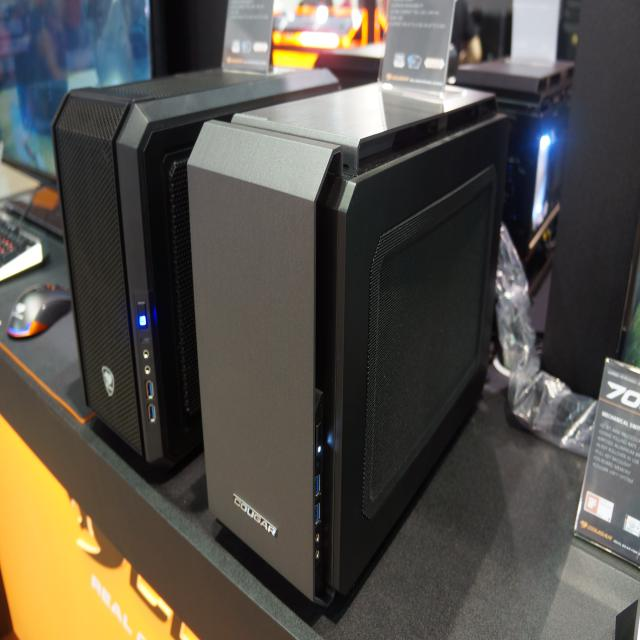electronics: (188, 84, 509, 602), (52, 69, 337, 465), (542, 0, 640, 397), (0, 0, 167, 191), (0, 0, 164, 183), (456, 58, 574, 280), (574, 357, 640, 567), (272, 0, 387, 88), (273, 1, 388, 88), (379, 0, 475, 95), (272, 0, 386, 66), (0, 163, 57, 282), (456, 57, 574, 111), (273, 0, 377, 51), (162, 0, 228, 74), (272, 4, 368, 54), (0, 163, 63, 237), (221, 0, 273, 73), (615, 218, 640, 367), (7, 284, 71, 338), (0, 210, 48, 281), (617, 221, 640, 367), (314, 42, 385, 88), (510, 0, 560, 64), (314, 43, 385, 88), (4, 185, 63, 237), (447, 0, 483, 81), (7, 194, 62, 235), (472, 6, 512, 61), (25, 186, 63, 236), (0, 162, 41, 207), (619, 287, 640, 366), (557, 0, 581, 60), (26, 201, 64, 237), (614, 599, 640, 640), (0, 574, 13, 635), (447, 43, 459, 82), (448, 47, 458, 76), (448, 48, 457, 74), (292, 54, 306, 63), (217, 148, 229, 155), (0, 141, 4, 159), (0, 141, 4, 156), (7, 203, 13, 208), (364, 9, 367, 19), (154, 51, 157, 61), (378, 26, 380, 40), (274, 64, 283, 67), (153, 37, 156, 45), (454, 54, 458, 59), (202, 328, 206, 332), (616, 283, 620, 287), (181, 38, 184, 43), (274, 60, 278, 63), (430, 5, 435, 7), (357, 41, 360, 44), (0, 143, 2, 147), (371, 37, 373, 41), (313, 54, 316, 56), (296, 53, 298, 56), (358, 38, 360, 41), (20, 212, 23, 214), (342, 22, 345, 24), (371, 33, 373, 36), (636, 282, 637, 287), (0, 148, 1, 152), (447, 10, 448, 14), (55, 195, 57, 197), (354, 42, 356, 44), (452, 80, 453, 83), (402, 47, 405, 48), (612, 282, 613, 285), (315, 36, 318, 37), (452, 69, 453, 72), (509, 32, 510, 34), (452, 82, 454, 83), (16, 207, 17, 208), (169, 47, 170, 48), (9, 205, 10, 206), (394, 21, 395, 21), (443, 5, 446, 5), (178, 39, 180, 39), (8, 206, 8, 208), (625, 265, 625, 266), (628, 226, 628, 228), (334, 23, 334, 23)
